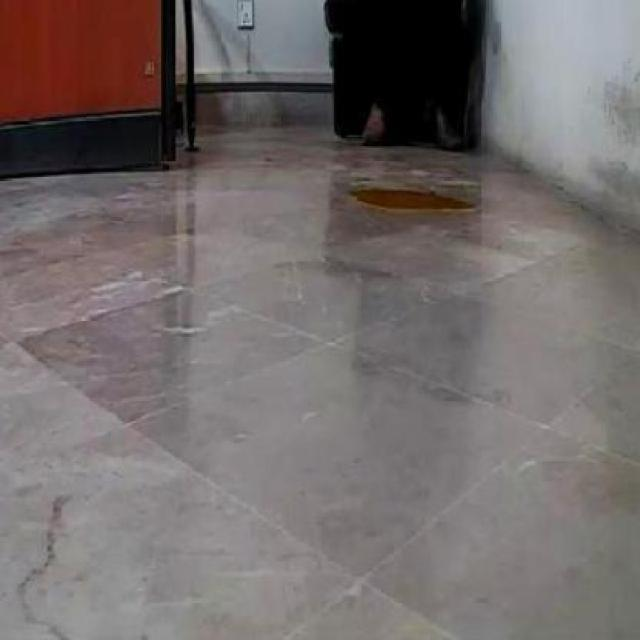spillage: (350, 176, 478, 219)
